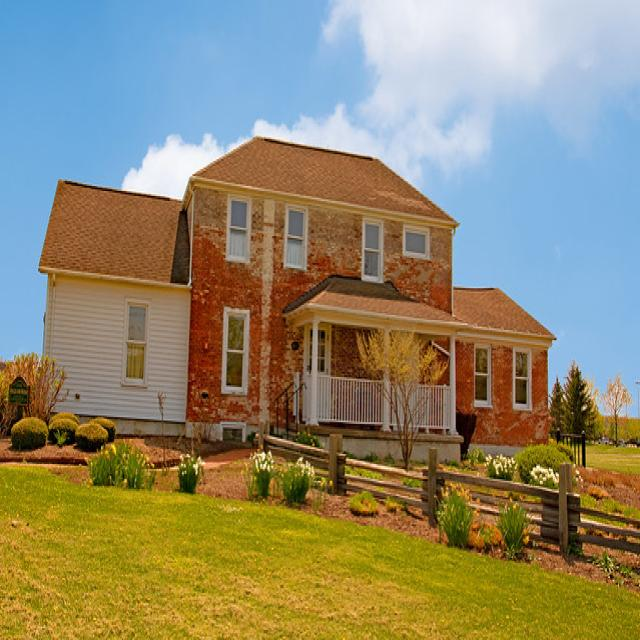building: (30, 132, 559, 468)
